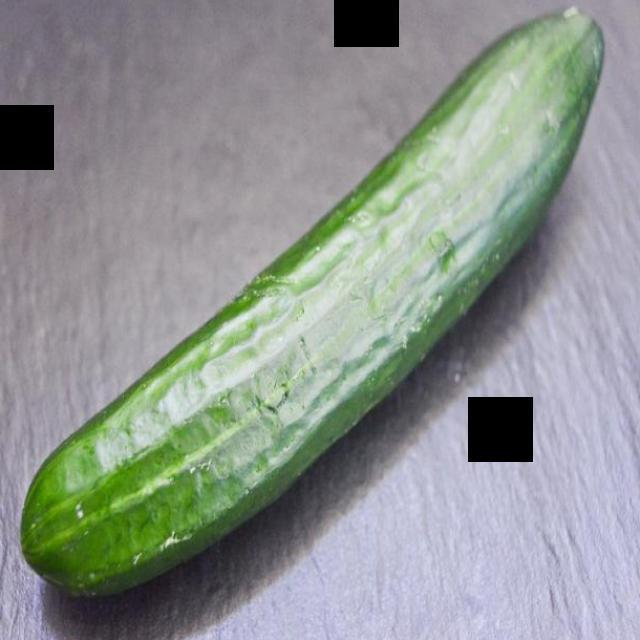cucumber: (15, 3, 609, 607)
